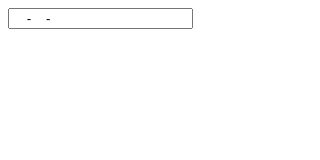
Scenario: PatternInput › formats typed input and reports the raw value via onChange
Type "123456789" into the field at (100, 18), box [8,8,193,29]
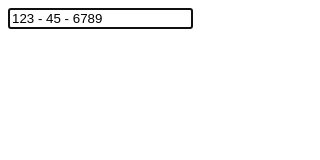
Now the field holds "123 - 45 - 6789", box [8,8,193,29]
